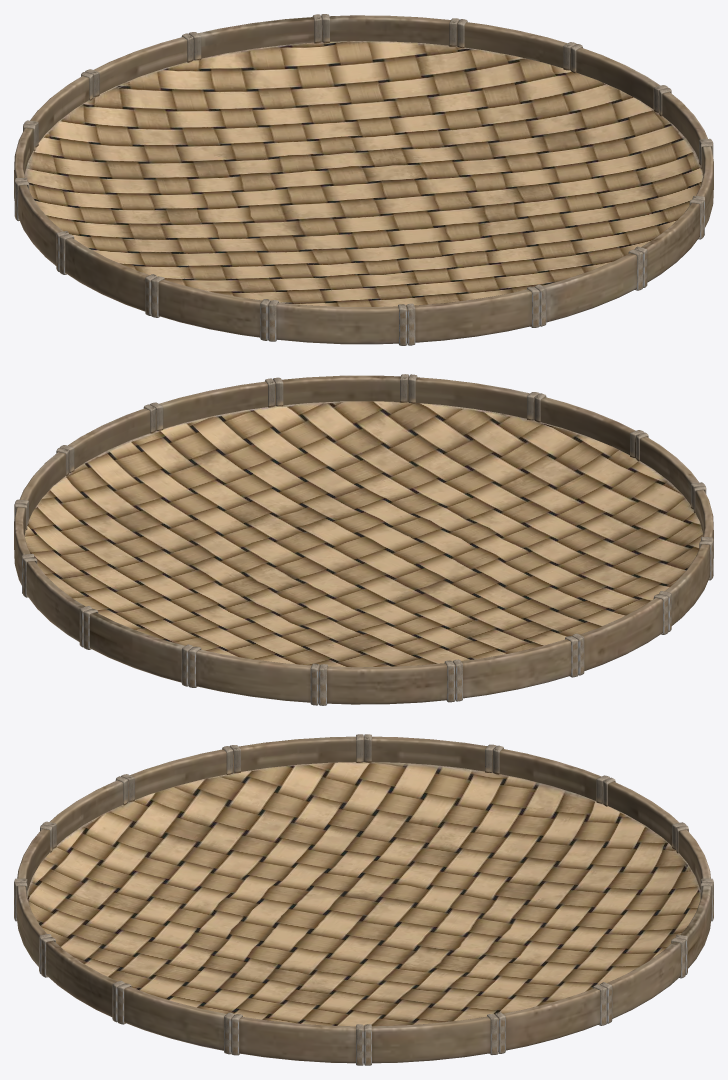
File: tray.glb
3 views of the same model, one above another, from view 1: azimuth 30°, elevation 25°; view 2: azimuth 150°, elevation 25°; view 3: azimuth 270°, elevation 25° (orthographic).
Parts seen in each view (by area): view 1: Object001_Traditionalbamboobasket_0; view 2: Object001_Traditionalbamboobasket_0; view 3: Object001_Traditionalbamboobasket_0.
Boxes of the visible parts, x1=… form: Object001_Traditionalbamboobasket_0: x1=14, y1=14, x2=713, y2=345; Object001_Traditionalbamboobasket_0: x1=14, y1=374, x2=713, y2=705; Object001_Traditionalbamboobasket_0: x1=14, y1=734, x2=713, y2=1065.
Size of the model in its own units: 1.8 by 0.177 by 1.8.
1 material, 1 textured.
